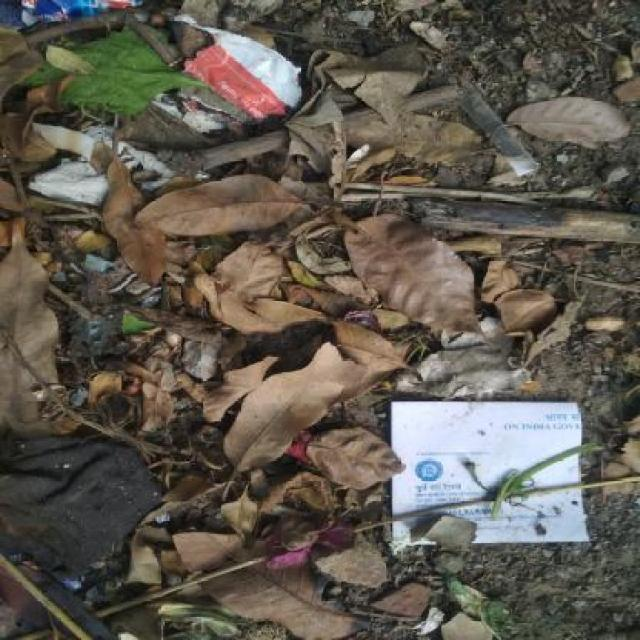garbage: (6, 354, 604, 631), (413, 31, 639, 390), (5, 8, 379, 182), (0, 194, 391, 346), (374, 395, 611, 560)
